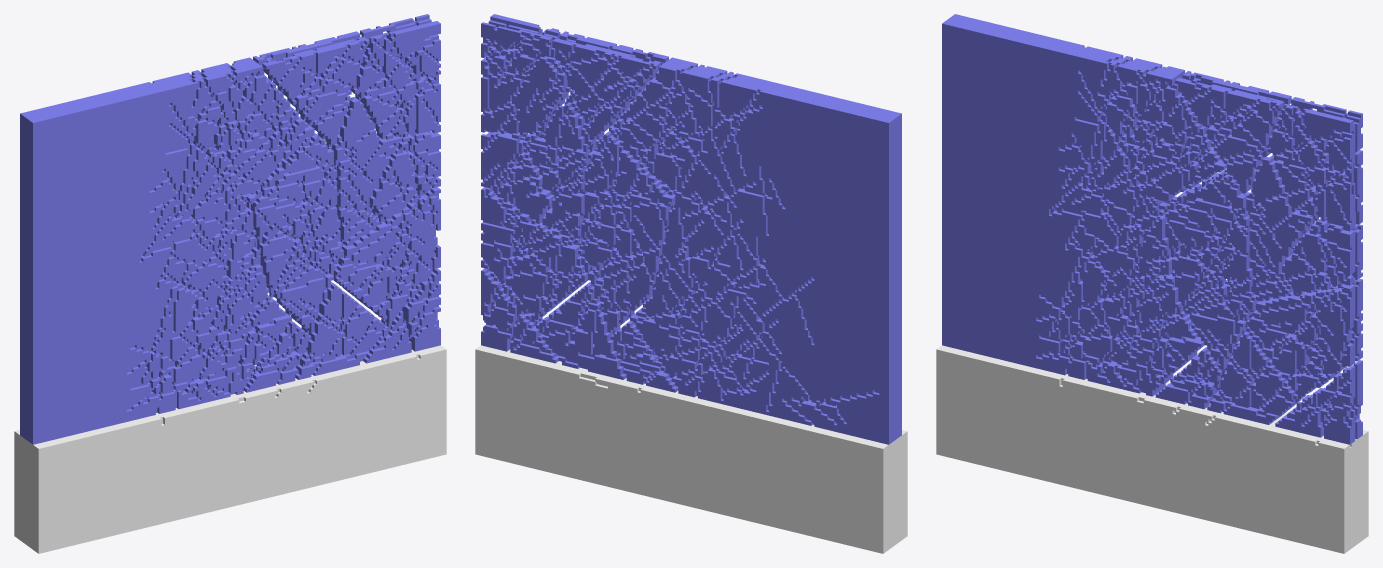
The model's file is Operating_room_Window2-2.fbx.
3 renders of one model, left to right at view 1: azimuth 30°, elevation 25°; view 2: azimuth 150°, elevation 25°; view 3: azimuth 330°, elevation 25°, orthographic.
Parts seen in each view (by area): view 1: Operating room Window2-2.002, Operating room Window2-2.001, Operating room Window2-2.011, Operating room Window2-2.005, Operating room Window2-2.013, Operating room Window2-2.007, Operating room Window2-2.009, Operating room Window2-2.017, Operating room Window2-2.004, Operating room Window2-2.019, Operating room Window2-2.015, Operating room Window2-2.008 (+1 smaller); view 2: Operating room Window2-2.002, Operating room Window2-2.001, Operating room Window2-2.012, Operating room Window2-2.006, Operating room Window2-2.014, Operating room Window2-2.008, Operating room Window2-2.010, Operating room Window2-2.018, Operating room Window2-2.003, Operating room Window2-2, Operating room Window2-2.016, Operating room Window2-2.007 (+1 smaller); view 3: Operating room Window2-2.002, Operating room Window2-2.001, Operating room Window2-2.011, Operating room Window2-2.005, Operating room Window2-2.013, Operating room Window2-2.007, Operating room Window2-2.009, Operating room Window2-2.017, Operating room Window2-2.019, Operating room Window2-2.004, Operating room Window2-2.014, Operating room Window2-2.015 (+3 smaller).
Part boxes in pixels (<box>): Operating room Window2-2.002: <box>20,57,314,444</box>; Operating room Window2-2.001: <box>14,345,446,553</box>; Operating room Window2-2.011: <box>331,97,440,323</box>; Operating room Window2-2.005: <box>246,132,343,332</box>; Operating room Window2-2.013: <box>351,21,440,139</box>; Operating room Window2-2.007: <box>262,37,369,147</box>; Operating room Window2-2.009: <box>295,283,383,379</box>; Operating room Window2-2.017: <box>369,132,440,222</box>; Operating room Window2-2.004: <box>243,321,311,392</box>; Operating room Window2-2.019: <box>403,268,440,351</box>; Operating room Window2-2.015: <box>363,311,411,363</box>; Operating room Window2-2.008: <box>253,31,360,139</box>; Operating room Window2-2.002: <box>609,57,901,444</box>; Operating room Window2-2.001: <box>475,345,907,553</box>; Operating room Window2-2.012: <box>481,102,590,322</box>; Operating room Window2-2.006: <box>578,131,675,332</box>; Operating room Window2-2.014: <box>481,22,570,135</box>; Operating room Window2-2.008: <box>552,38,661,147</box>; Operating room Window2-2.010: <box>536,282,626,379</box>; Operating room Window2-2.018: <box>481,131,554,223</box>; Operating room Window2-2.003: <box>610,321,678,392</box>; Operating room Window2-2: <box>481,268,516,351</box>; Operating room Window2-2.016: <box>510,313,560,363</box>; Operating room Window2-2.007: <box>559,31,668,139</box>; Operating room Window2-2.002: <box>942,14,1226,396</box>; Operating room Window2-2.001: <box>936,345,1368,553</box>; Operating room Window2-2.011: <box>1246,156,1355,398</box>; Operating room Window2-2.005: <box>1159,171,1258,369</box>; Operating room Window2-2.013: <box>1267,104,1355,231</box>; Operating room Window2-2.007: <box>1175,78,1284,193</box>; Operating room Window2-2.009: <box>1207,331,1297,424</box>; Operating room Window2-2.017: <box>1282,217,1355,294</box>; Operating room Window2-2.019: <box>1317,365,1355,444</box>; Operating room Window2-2.004: <box>1155,347,1222,409</box>; Operating room Window2-2.014: <box>1291,97,1362,224</box>; Operating room Window2-2.015: <box>1275,392,1323,437</box>.
Bounding box in the file's own units: 12.6 × 12.6 × 1.3.
